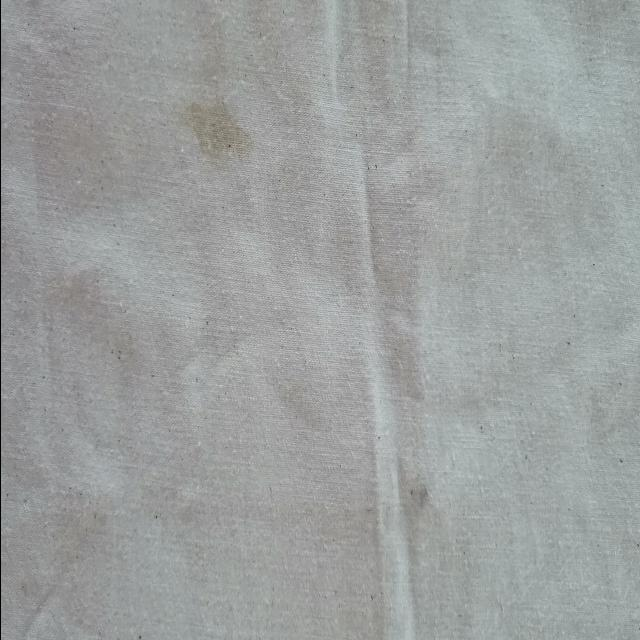taaaches: (175, 81, 254, 205), (378, 465, 442, 561)
